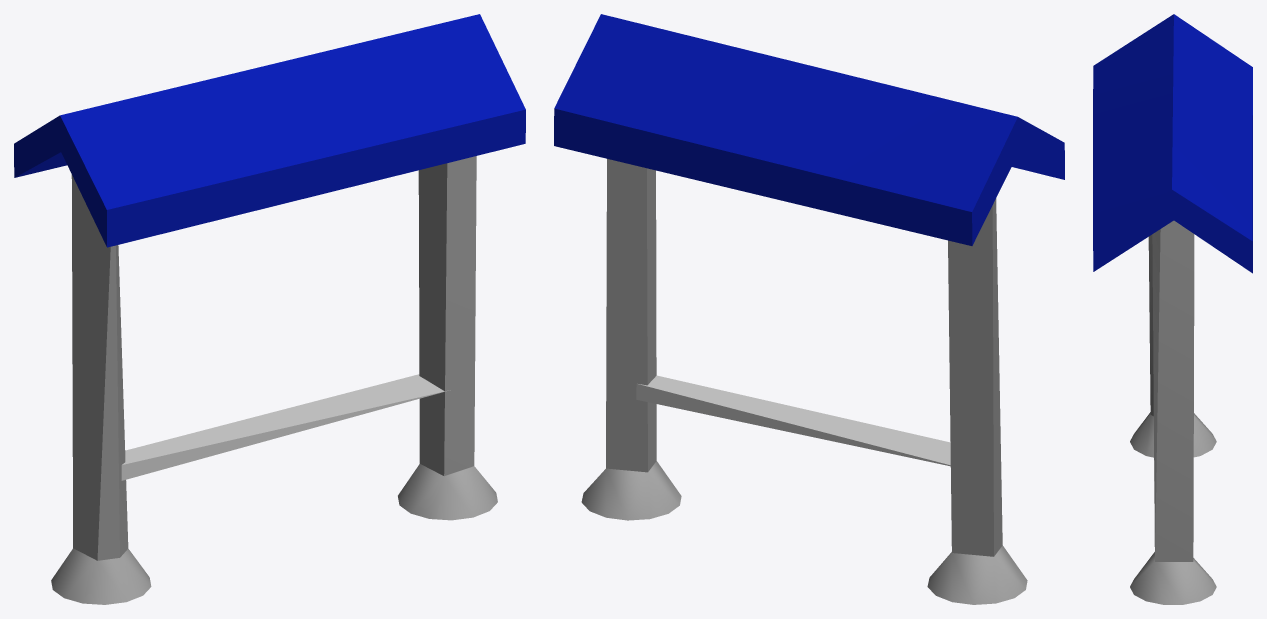
Rendered from PontoDeOnibusLOD1.fbx.
The picture shows the model from 3 angles, left to right: view 1: azimuth 30°, elevation 25°; view 2: azimuth 150°, elevation 25°; view 3: azimuth 270°, elevation 25°; orthographic projection. The views are drawn at different scales.
Parts seen in each view (by area): view 1: PontoDeOnibusPequenoLOD1; view 2: PontoDeOnibusPequenoLOD1; view 3: PontoDeOnibusPequenoLOD1.
Part boxes in pixels (<box>): PontoDeOnibusPequenoLOD1: <box>14,14,525,604</box>; PontoDeOnibusPequenoLOD1: <box>554,14,1064,604</box>; PontoDeOnibusPequenoLOD1: <box>1093,14,1252,604</box>.
Size of the model in its own units: 201 by 212 by 74.84.
